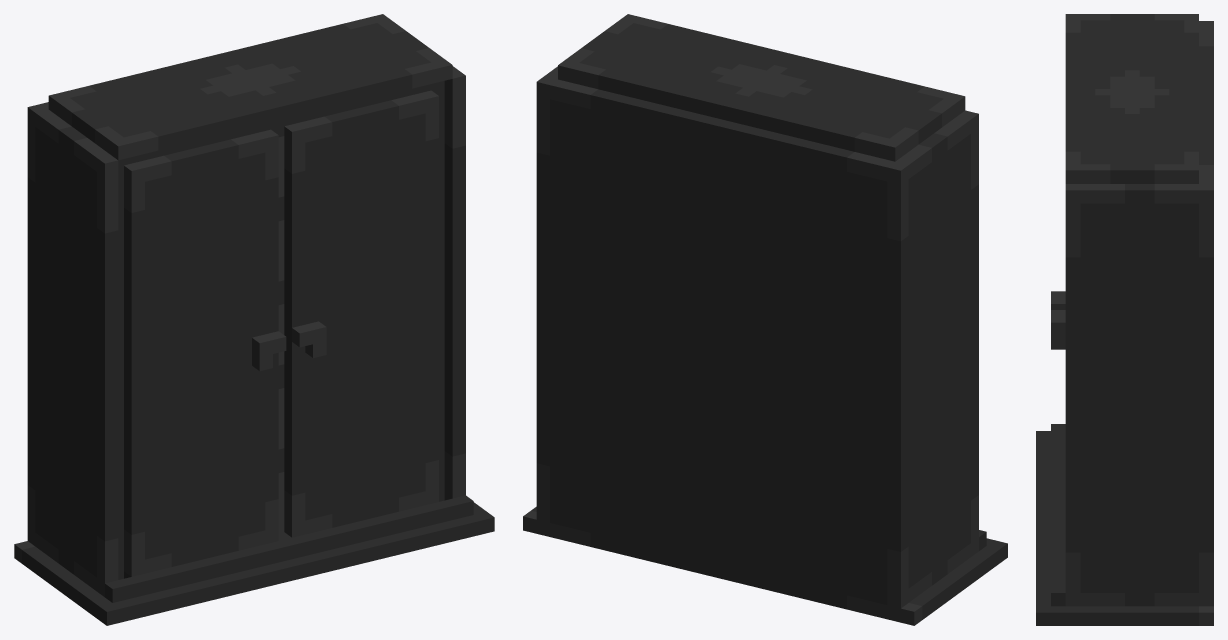
Rendered from Decor-58.obj.
The picture shows the model from 3 angles, left to right: view 1: azimuth 30°, elevation 25°; view 2: azimuth 150°, elevation 25°; view 3: azimuth 270°, elevation 25°; orthographic projection. The views are drawn at different scales.
Bounding box in the file's own units: 2.9 × 3.3 × 1.2.
Materials: 1 (1 with a texture image).
